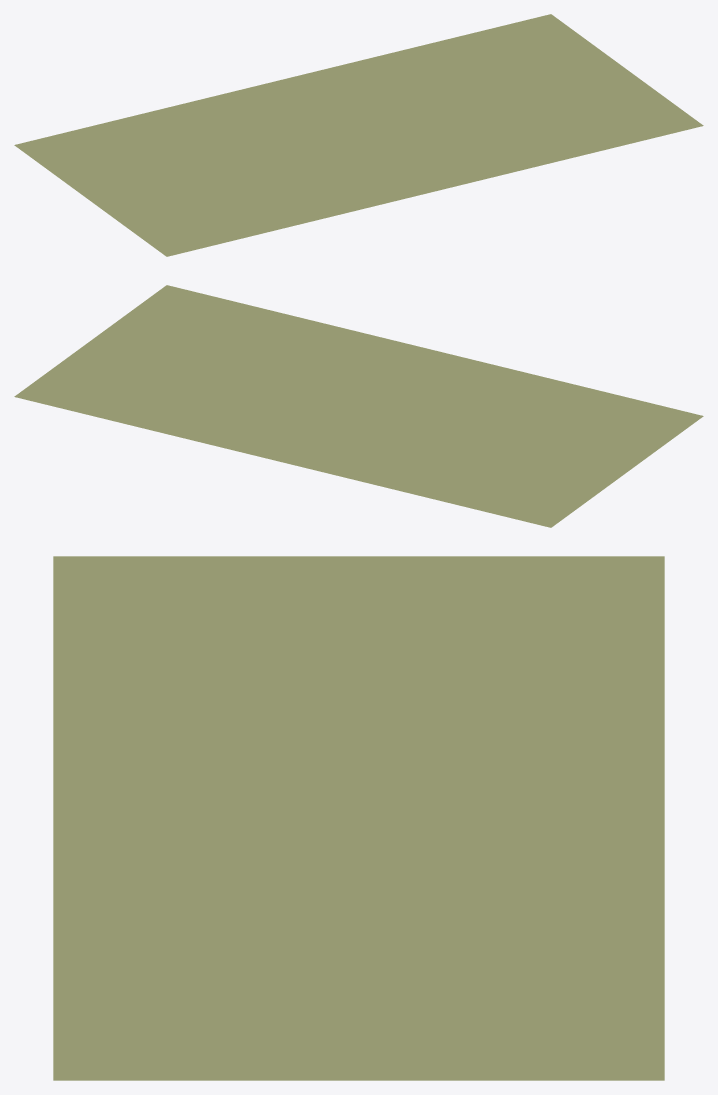
File: map.fbx
The picture shows the model from 3 angles, top to bottom: view 1: azimuth 30°, elevation 25°; view 2: azimuth 150°, elevation 25°; view 3: azimuth 270°, elevation 25°; orthographic projection. The views are drawn at different scales.
Parts seen in each view (by area): view 1: pPlane1; view 2: pPlane1; view 3: pPlane1.
Boxes of the visible parts, x1,y1,x2,y2 form: pPlane1: (14,14,703,256); pPlane1: (14,285,703,527); pPlane1: (53,556,664,1080).
Bounding box in the file's own units: 1.73 × 0 × 0.8512.
